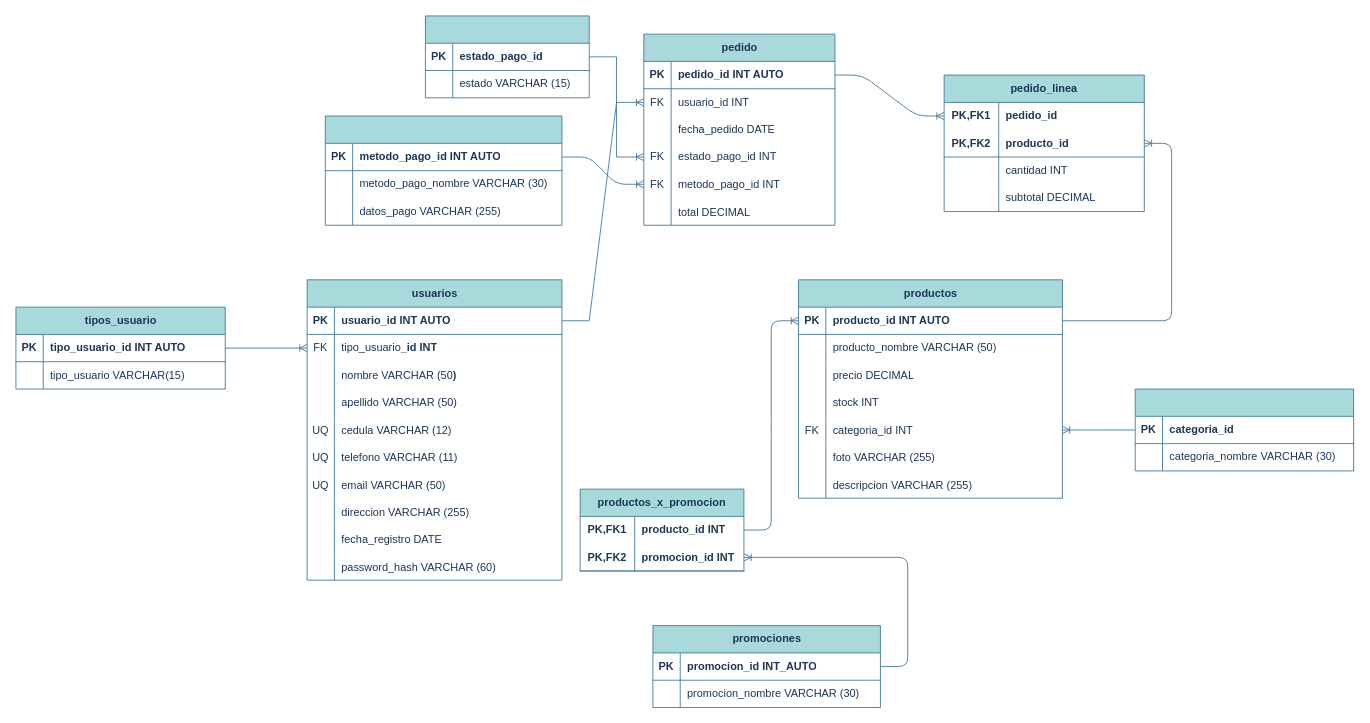
Image size: 1370x723. Some labels were removed from this diagram. The shapes that lost their labels are listed below. From the top down, each one's box as (x1, y1, x2, y2) in pixels, then its label:
(425, 15, 589, 98): estados_pago
(324, 115, 562, 225): metodos_pago
(1134, 388, 1354, 471): categorias
